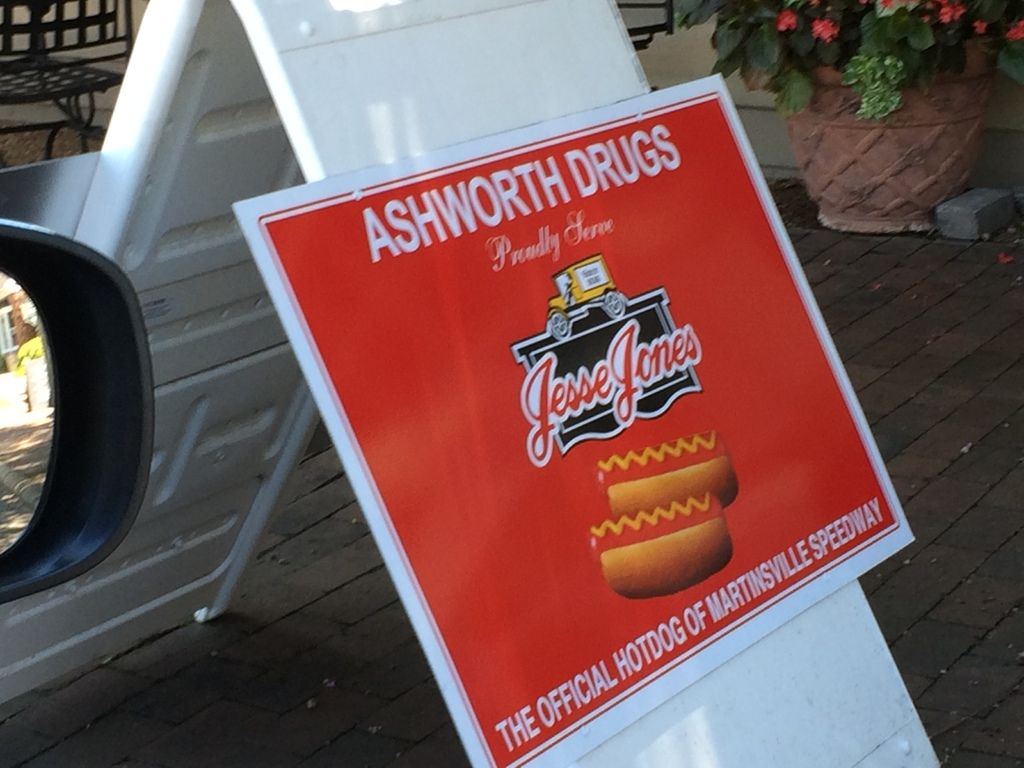hot_dog: (588, 429, 742, 513)
